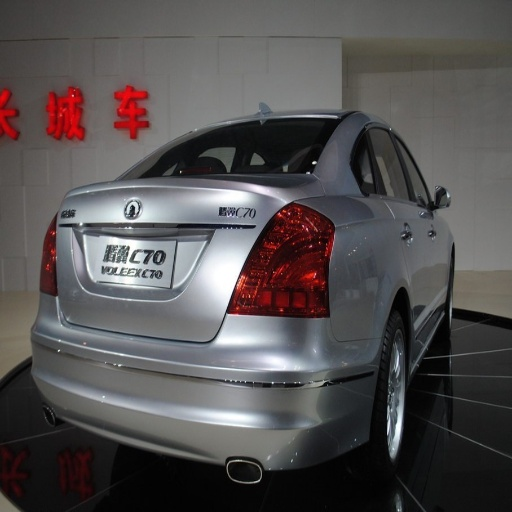back_bumper: (11, 293, 385, 504)
back_right_door: (372, 125, 432, 347)
